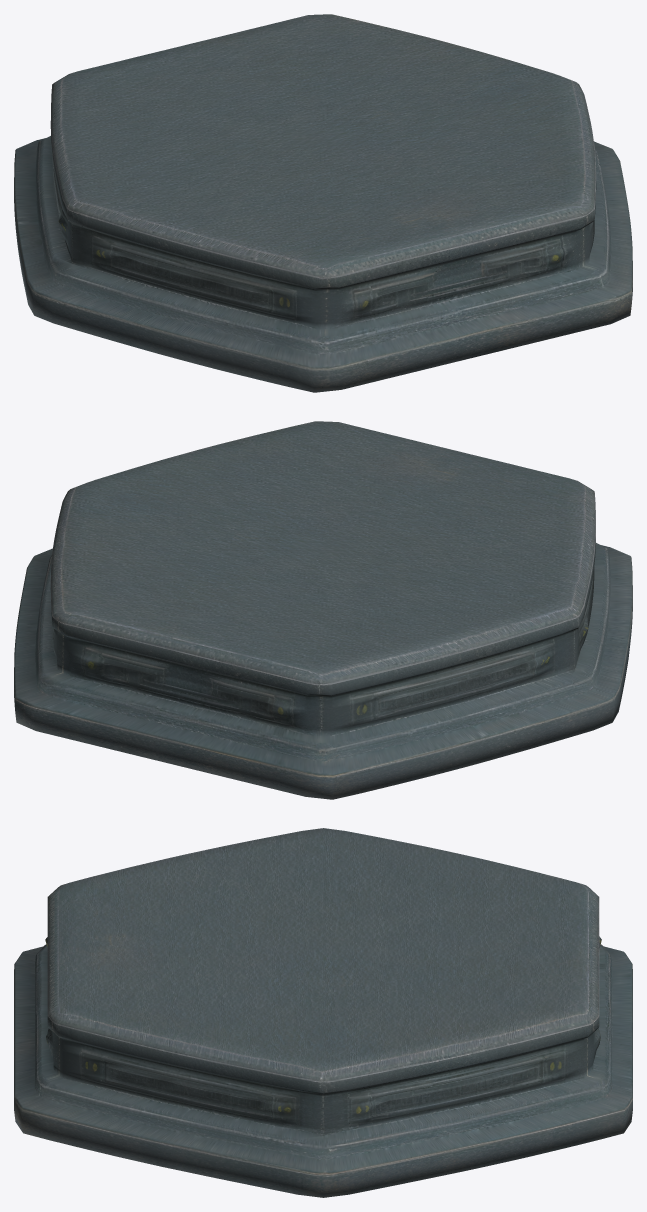
File: TianyiDais_LOD0.fbx
The picture shows the model from 3 angles, top to bottom: view 1: azimuth 30°, elevation 25°; view 2: azimuth 150°, elevation 25°; view 3: azimuth 270°, elevation 25°; orthographic projection.
Visible parts, largest first — view 1: TianyiDais_LOD0; view 2: TianyiDais_LOD0; view 3: TianyiDais_LOD0.
Boxes of the visible parts, x1,y1,x2,y2 form: TianyiDais_LOD0: [14, 14, 632, 392]; TianyiDais_LOD0: [14, 421, 632, 799]; TianyiDais_LOD0: [14, 828, 632, 1197].
Size of the model in its own units: 3.14 by 0.55 by 2.88.
Materials: 1 (1 with a texture image).
